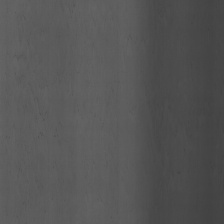silk_spot: (6, 24, 59, 140)
